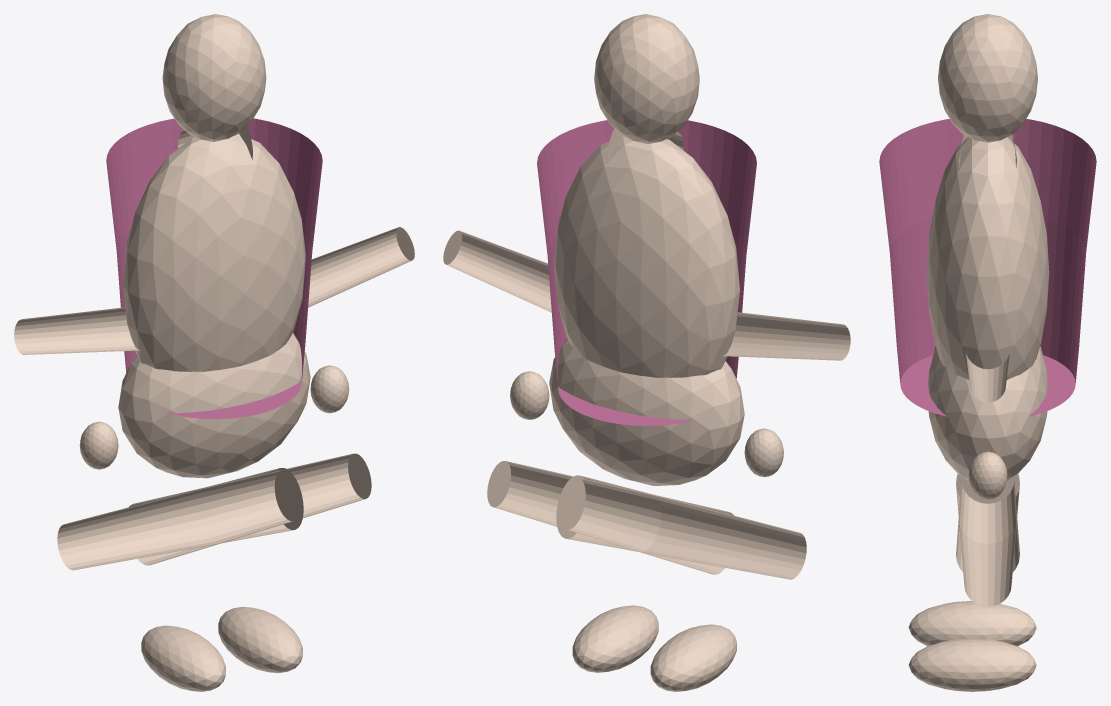
Rendered from femenino-camisola.glb.
3 renders of one model, left to right at view 1: azimuth 30°, elevation 25°; view 2: azimuth 150°, elevation 25°; view 3: azimuth 270°, elevation 25°, orthographic.
Visible parts, largest first — view 1: Avatar0, Avatar1, Prenda, Avatar3, Avatar4, Avatar8, Avatar6, Avatar10, Avatar5, Avatar9, Avatar11, Avatar7; view 2: Avatar0, Avatar1, Prenda, Avatar3, Avatar4, Avatar8, Avatar6, Avatar10, Avatar5, Avatar9, Avatar11, Avatar7; view 3: Prenda, Avatar0, Avatar3, Avatar1, Avatar9, Avatar5, Avatar8, Avatar4, Avatar11, Avatar10.
Boxes of the visible parts, bbox=[...] form: Avatar0: bbox=[123, 133, 305, 371]; Avatar1: bbox=[118, 333, 310, 478]; Prenda: bbox=[106, 118, 322, 419]; Avatar3: bbox=[162, 14, 266, 141]; Avatar4: bbox=[57, 468, 303, 570]; Avatar8: bbox=[129, 453, 371, 565]; Avatar6: bbox=[14, 307, 140, 354]; Avatar10: bbox=[308, 227, 414, 307]; Avatar5: bbox=[141, 625, 225, 691]; Avatar9: bbox=[218, 606, 302, 673]; Avatar11: bbox=[310, 365, 349, 413]; Avatar7: bbox=[79, 421, 118, 469]; Avatar0: bbox=[554, 135, 739, 377]; Avatar1: bbox=[549, 338, 744, 485]; Prenda: bbox=[537, 120, 756, 425]; Avatar3: bbox=[594, 14, 699, 143]; Avatar4: bbox=[556, 475, 806, 579]; Avatar8: bbox=[487, 461, 733, 574]; Avatar6: bbox=[723, 312, 850, 360]; Avatar10: bbox=[443, 230, 551, 312]; Avatar5: bbox=[650, 624, 736, 691]; Avatar9: bbox=[572, 605, 658, 672]; Avatar11: bbox=[510, 371, 549, 419]; Avatar7: bbox=[744, 428, 783, 477]; Prenda: bbox=[879, 119, 1096, 416]; Avatar0: bbox=[926, 137, 1049, 379]; Avatar3: bbox=[938, 14, 1037, 142]; Avatar1: bbox=[927, 346, 1048, 480]; Avatar9: bbox=[908, 638, 1036, 691]; Avatar5: bbox=[908, 601, 1036, 646]; Avatar8: bbox=[956, 474, 1019, 606]; Avatar4: bbox=[956, 481, 1019, 572]; Avatar11: bbox=[968, 451, 1007, 499]; Avatar10: bbox=[966, 353, 1009, 402].
Bounding box in the file's own units: 1.61 × 2.58 × 0.7802.
